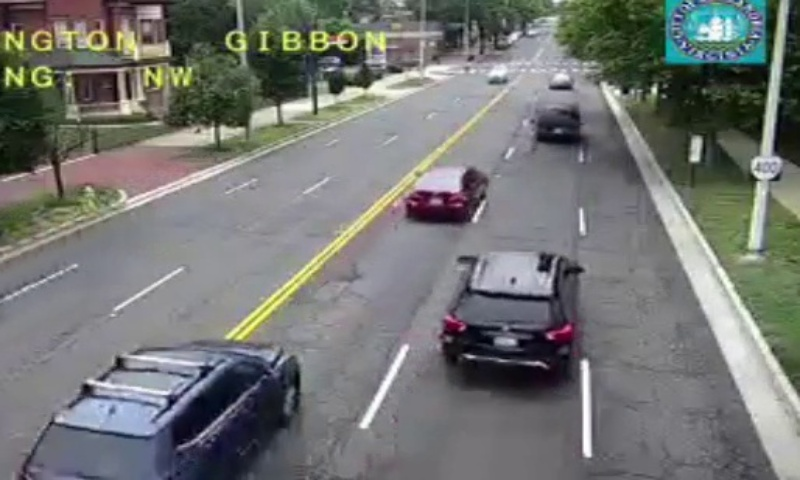car: (18, 340, 300, 480), (440, 250, 577, 371), (404, 165, 485, 216), (536, 106, 578, 141)
